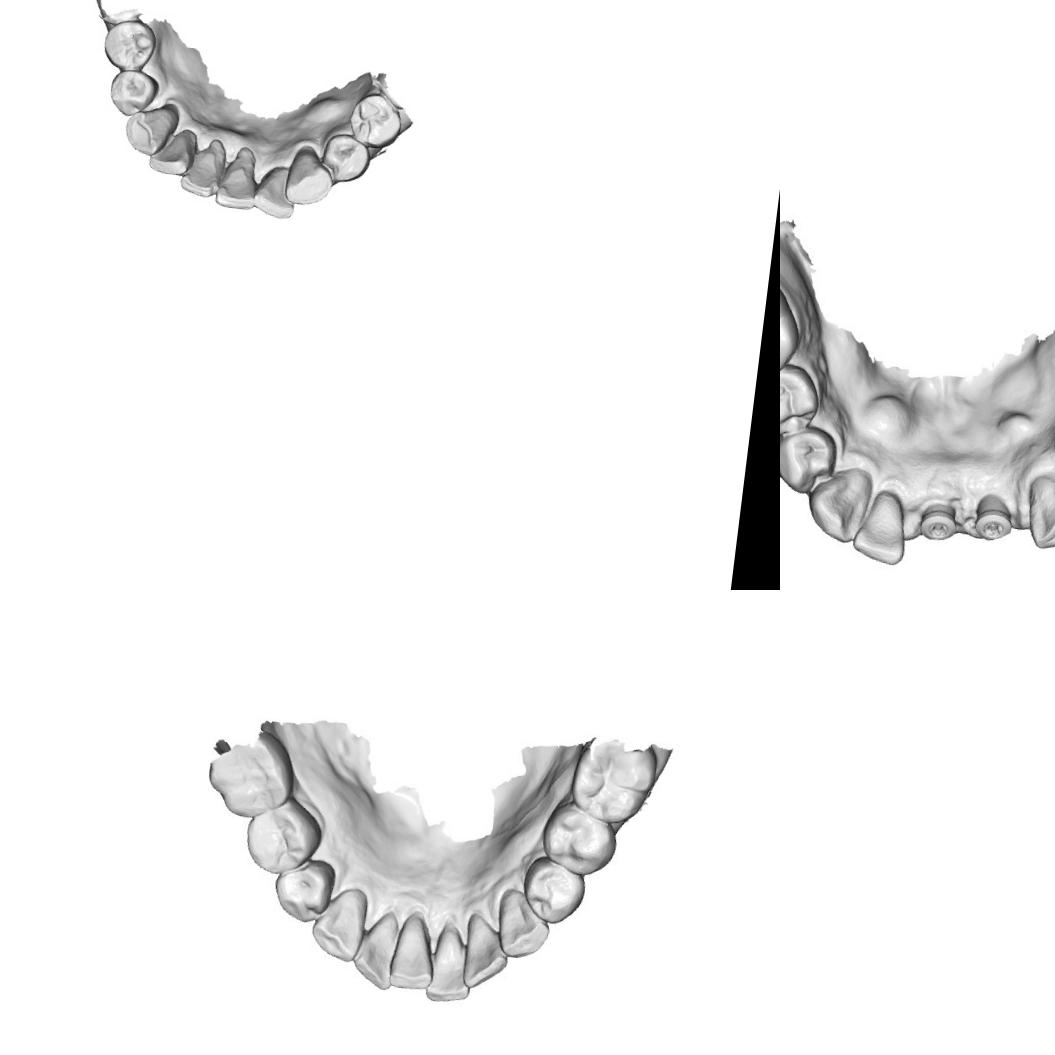canine: (308, 874, 369, 956), (488, 883, 554, 958), (808, 464, 873, 540), (282, 144, 336, 210), (121, 102, 180, 160), (1022, 471, 1055, 549)
implant_minus: (966, 483, 1024, 556), (916, 490, 966, 550)
incisor: (386, 906, 446, 994), (353, 900, 412, 989), (852, 484, 916, 562), (454, 912, 514, 988), (425, 921, 477, 1006), (251, 161, 300, 222), (178, 142, 227, 201), (213, 154, 261, 212), (146, 125, 198, 178)
molar: (198, 725, 302, 825), (571, 730, 664, 831)
premolar: (240, 796, 322, 880), (542, 798, 624, 878), (518, 856, 589, 928), (272, 853, 338, 924), (780, 418, 840, 492), (346, 90, 406, 152), (100, 14, 158, 74), (780, 356, 820, 437), (318, 130, 374, 186), (105, 66, 161, 120)
